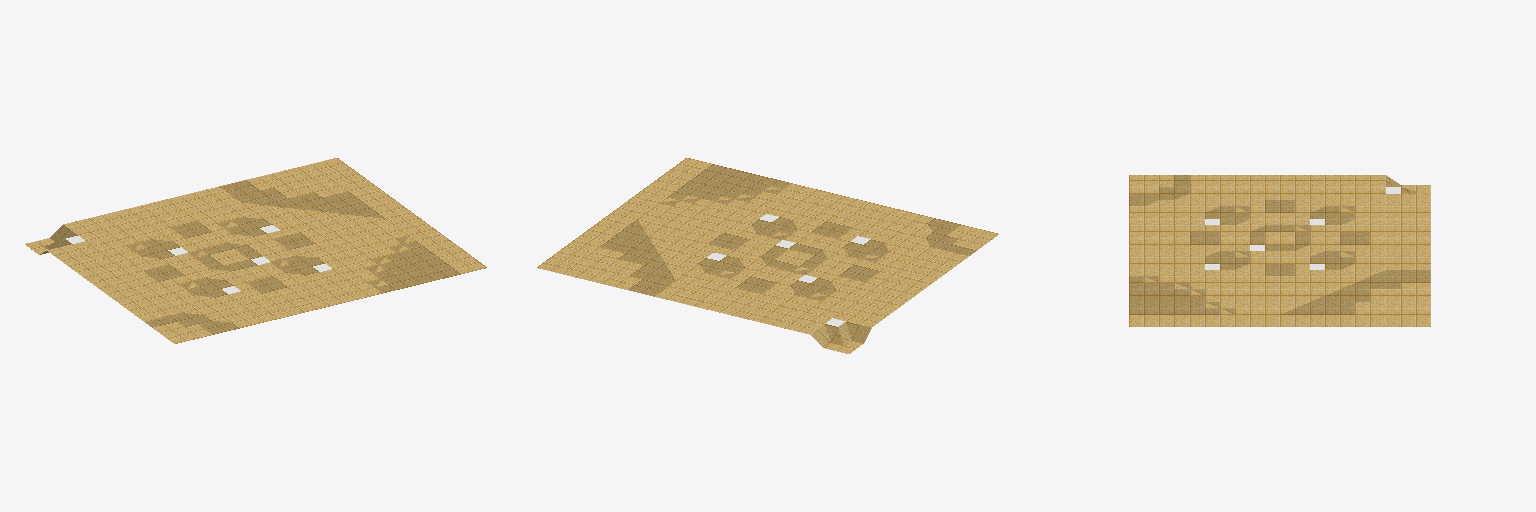
The picture shows the model from 3 angles: view 1: azimuth 30°, elevation 25°; view 2: azimuth 150°, elevation 25°; view 3: azimuth 270°, elevation 25°; orthographic projection.
Parts seen in each view (by area): view 1: FloorSide_7; view 2: FloorSide_7; view 3: FloorSide_7.
Boxes of the visible parts, box(x1,y1,x2,y2) form: FloorSide_7: box(25, 158, 486, 343); FloorSide_7: box(537, 158, 998, 353); FloorSide_7: box(1129, 175, 1430, 326).
Bounding box in the file's own units: 24 × 0.7379 × 20.
Materials: 8 (7 with a texture image).